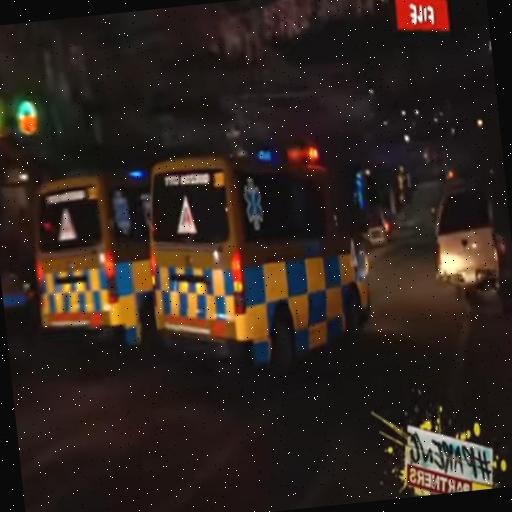Police car: (137, 134, 380, 394)
